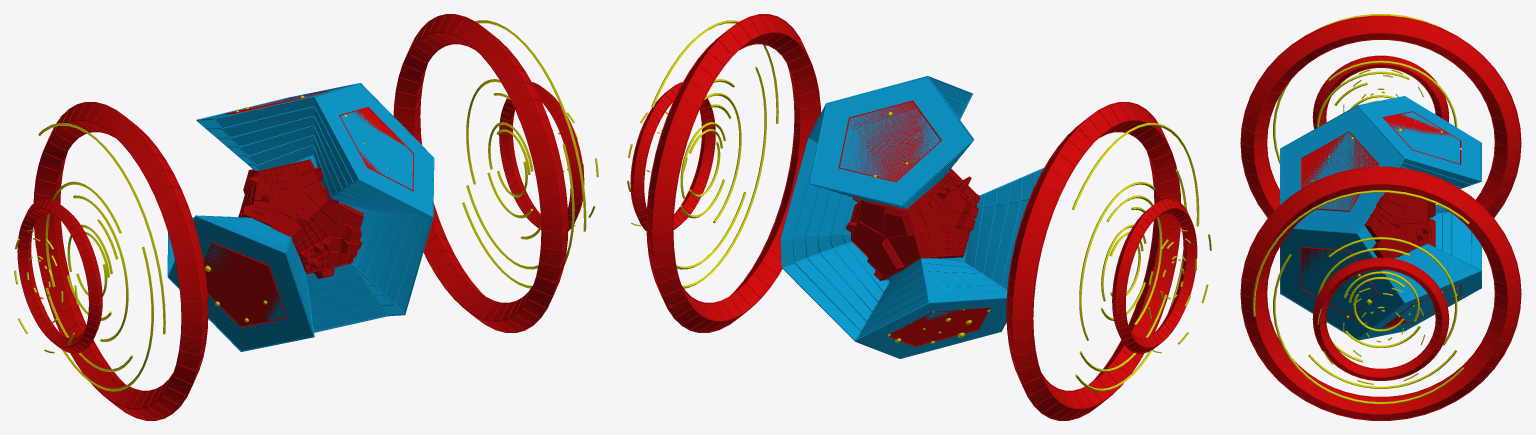
Rendered from ion.glb.
3 renders of one model, left to right at view 1: azimuth 30°, elevation 25°; view 2: azimuth 150°, elevation 25°; view 3: azimuth 270°, elevation 25°, orthographic. The views are drawn at different scales.
Visible parts, largest first — view 1: geo1, circle, circle1, circle2; view 2: geo1, circle, circle1, circle2; view 3: circle, geo1, circle1, circle2.
Part boxes in pixels (left/top/right/bottom): geo1: left=167, top=83, right=434, bottom=351; circle: left=17, top=14, right=584, bottom=420; circle1: left=38, top=20, right=586, bottom=391; circle2: left=14, top=112, right=598, bottom=353; geo1: left=780, top=76, right=1043, bottom=358; circle: left=630, top=14, right=1197, bottom=420; circle1: left=651, top=20, right=1199, bottom=391; circle2: left=627, top=112, right=1211, bottom=353; circle: left=1240, top=15, right=1521, bottom=420; geo1: left=1280, top=96, right=1481, bottom=340; circle1: left=1252, top=14, right=1469, bottom=404; circle2: left=1317, top=69, right=1425, bottom=384.
Bounding box in the file's own units: 4.08 × 2.21 × 2.21.
